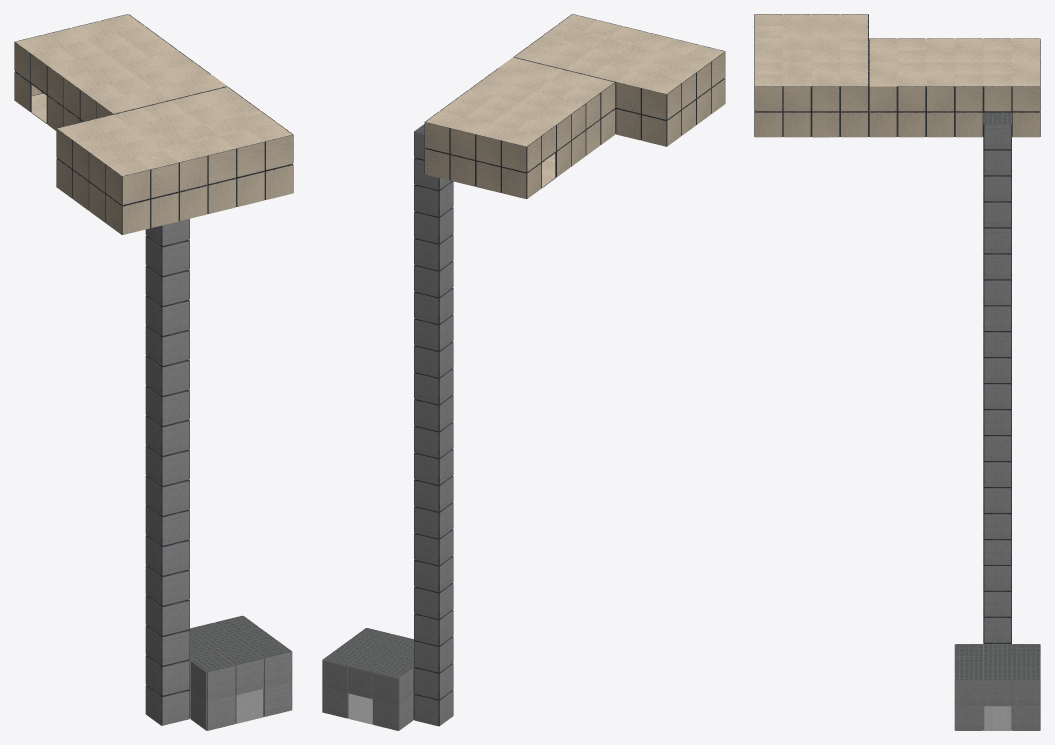
The model's file is MainEntrance.fbx.
3 renders of one model, left to right at view 1: azimuth 30°, elevation 25°; view 2: azimuth 150°, elevation 25°; view 3: azimuth 270°, elevation 25°, orthographic. The views are drawn at different scales.
Parts seen in each view (by area): view 1: Room.004, Room.002, Room.003, Room.001; view 2: Room.002, Room.003, Room.004, Room.001; view 3: Room.003, Room.002, Room.004, Room.001.
Part boxes in pixels (box(x1,y1,x2,y2)): Room.004: box(56, 86, 293, 234); Room.002: box(145, 219, 189, 725); Room.003: box(14, 14, 227, 130); Room.001: box(189, 615, 292, 730); Room.002: box(414, 124, 453, 726); Room.003: box(424, 57, 615, 198); Room.004: box(514, 14, 725, 146); Room.001: box(322, 628, 414, 730); Room.003: box(869, 38, 1040, 137); Room.002: box(983, 112, 1011, 644); Room.004: box(754, 14, 868, 137); Room.001: box(954, 644, 1040, 730).
Size of the model in its own units: 2000 by 4590 by 2000.
